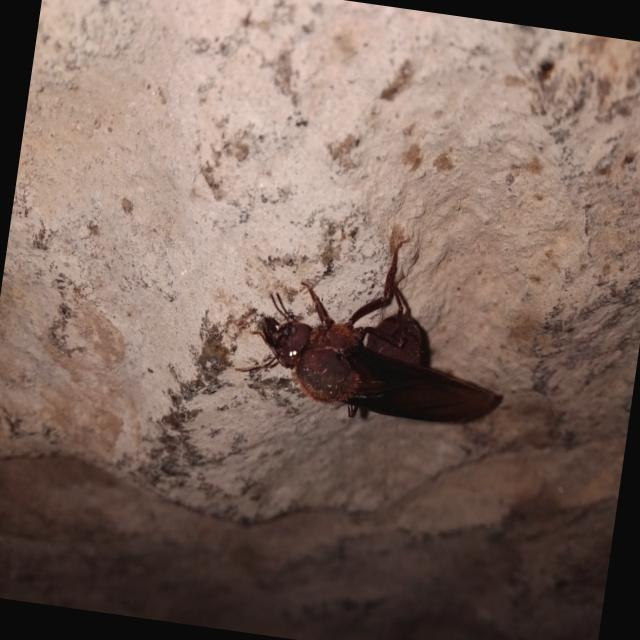Alive-Female-Alate: (229, 213, 524, 440)
